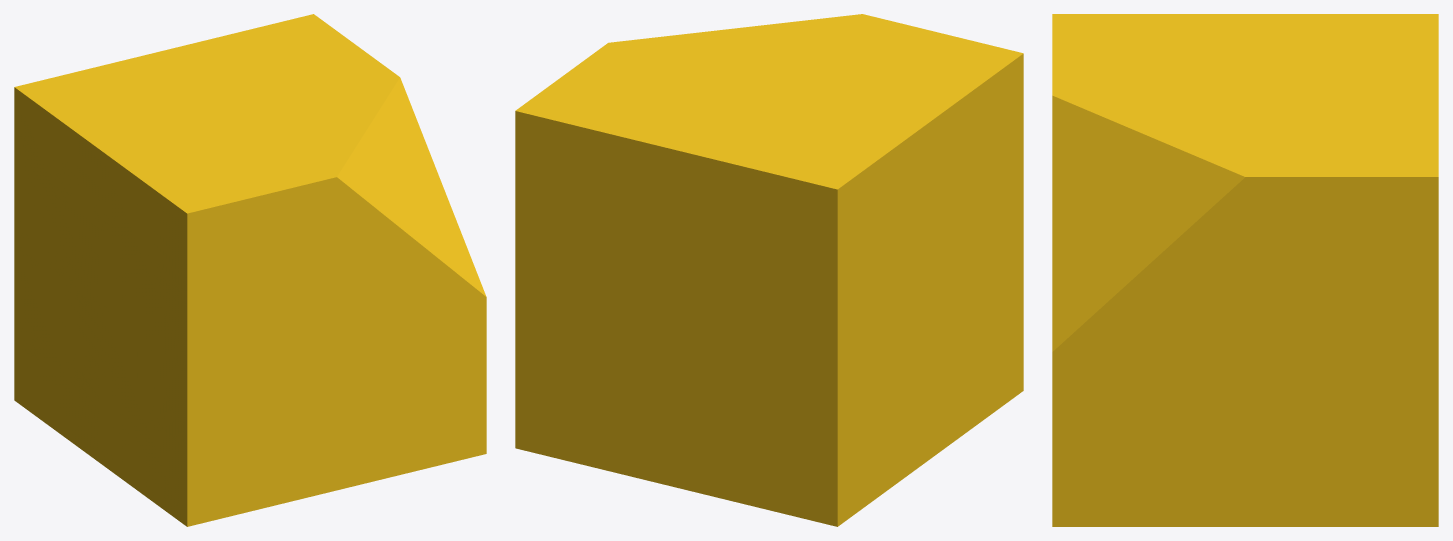
The model's file is r6c6_body_yellow.gltf.
3 renders of one model, left to right at view 1: azimuth 30°, elevation 25°; view 2: azimuth 150°, elevation 25°; view 3: azimuth 270°, elevation 25°, orthographic. The views are drawn at different scales.
Parts seen in each view (by area): view 1: r6c6_body_yellow; view 2: r6c6_body_yellow; view 3: r6c6_body_yellow.
Boxes of the visible parts, x1,y1,x2,y2 form: r6c6_body_yellow: (14,14,486,526); r6c6_body_yellow: (515,14,1023,526); r6c6_body_yellow: (1052,14,1438,526).
Size of what is drawn, in the model's own units: 2 by 2 by 2.
1 material, 1 textured.
